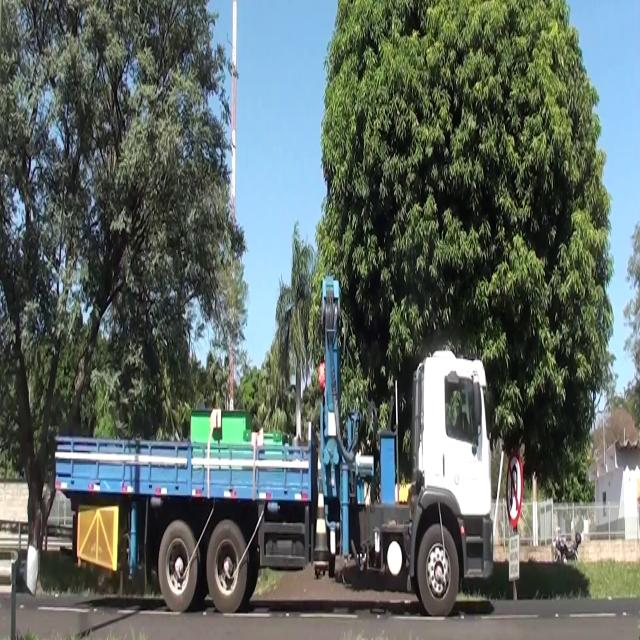-axle: (416, 523, 461, 617), (159, 515, 199, 616), (207, 520, 248, 612)
